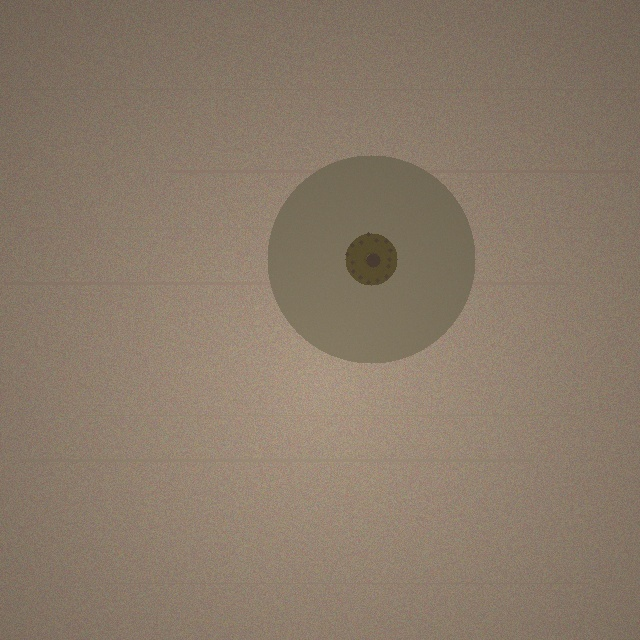cold_weld: (267, 155, 475, 363)
